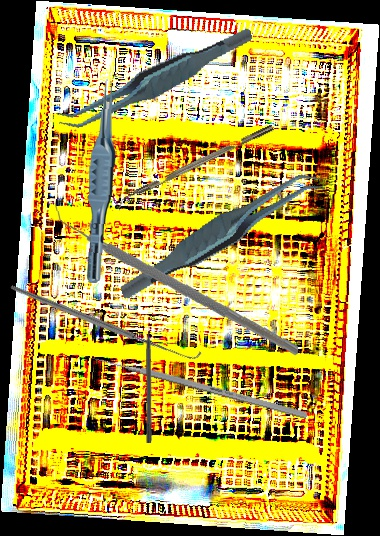Chopper: (54, 181, 299, 369), (113, 124, 278, 212)
Hook Surgical: (9, 218, 203, 423)
Pusher: (79, 350, 309, 420), (146, 317, 153, 443)
Tissue Forceps: (104, 168, 339, 301), (48, 27, 263, 132), (85, 78, 119, 284)
